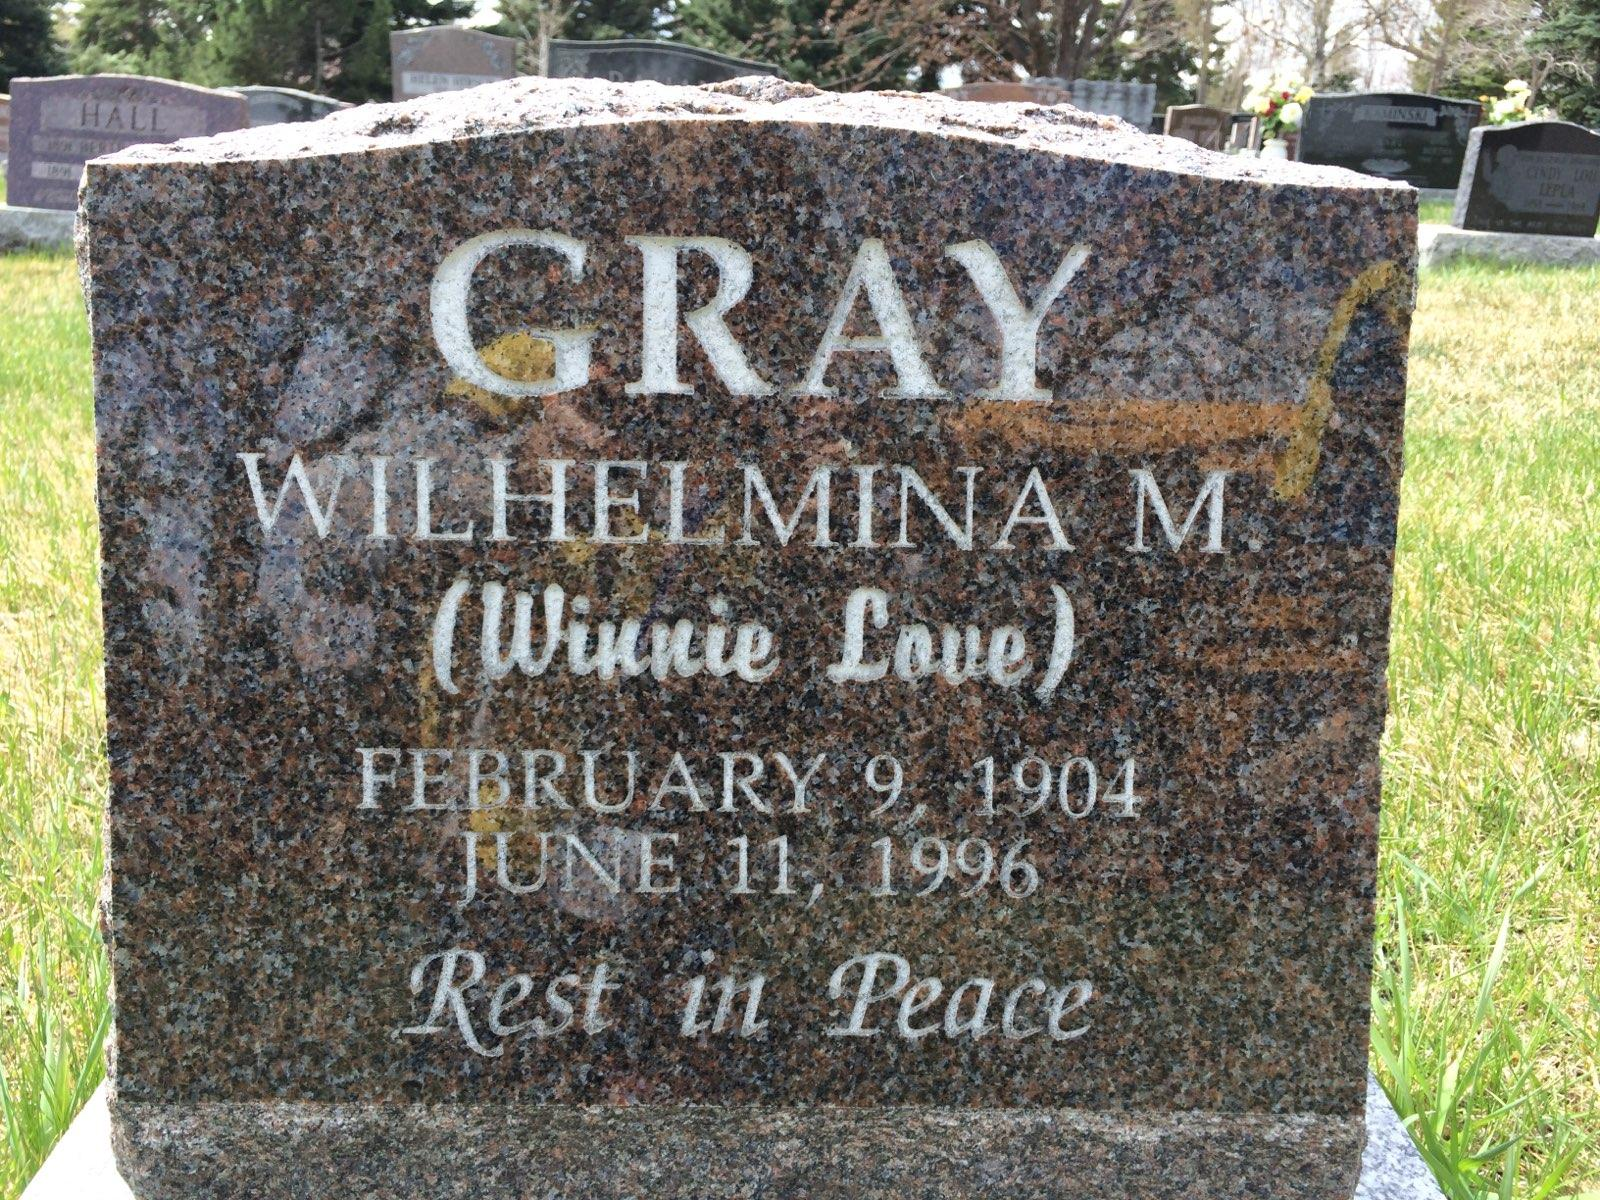upright: (79, 48, 1429, 1191)
